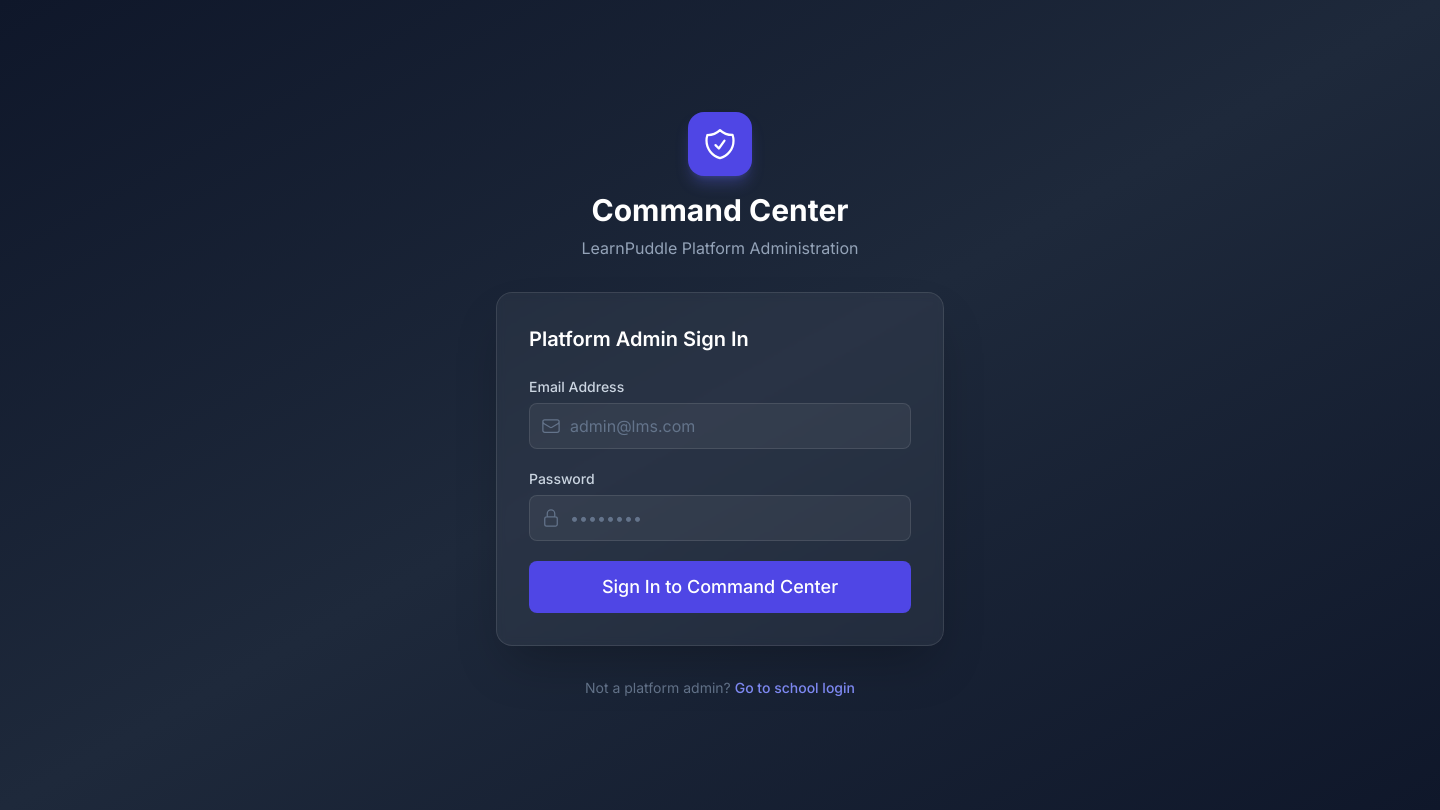
Test: SuperAdminLoginPage › non-SUPER_ADMIN role guard › shows "This portal is for platform administrators only." when role is not SUPER_ADMIN
Type "teacher@school.com" into the field labelled "Email Address".
click(720, 426); type("teacher@school.com")  # box 529,403 -> 911,449
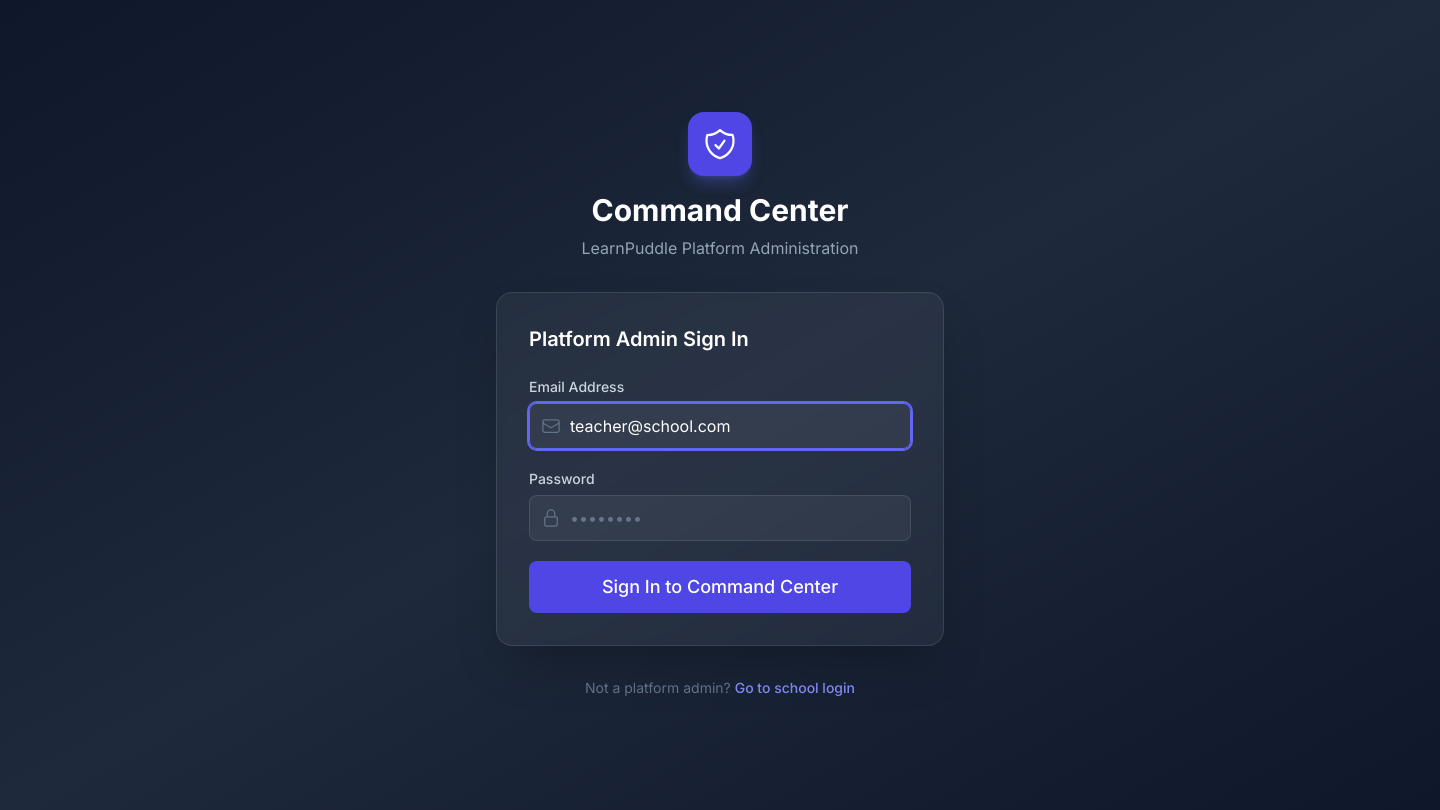
Type "pass1234" into the password field labelled "Password".
click(720, 518); type("pass1234")  # box 529,495 -> 911,541
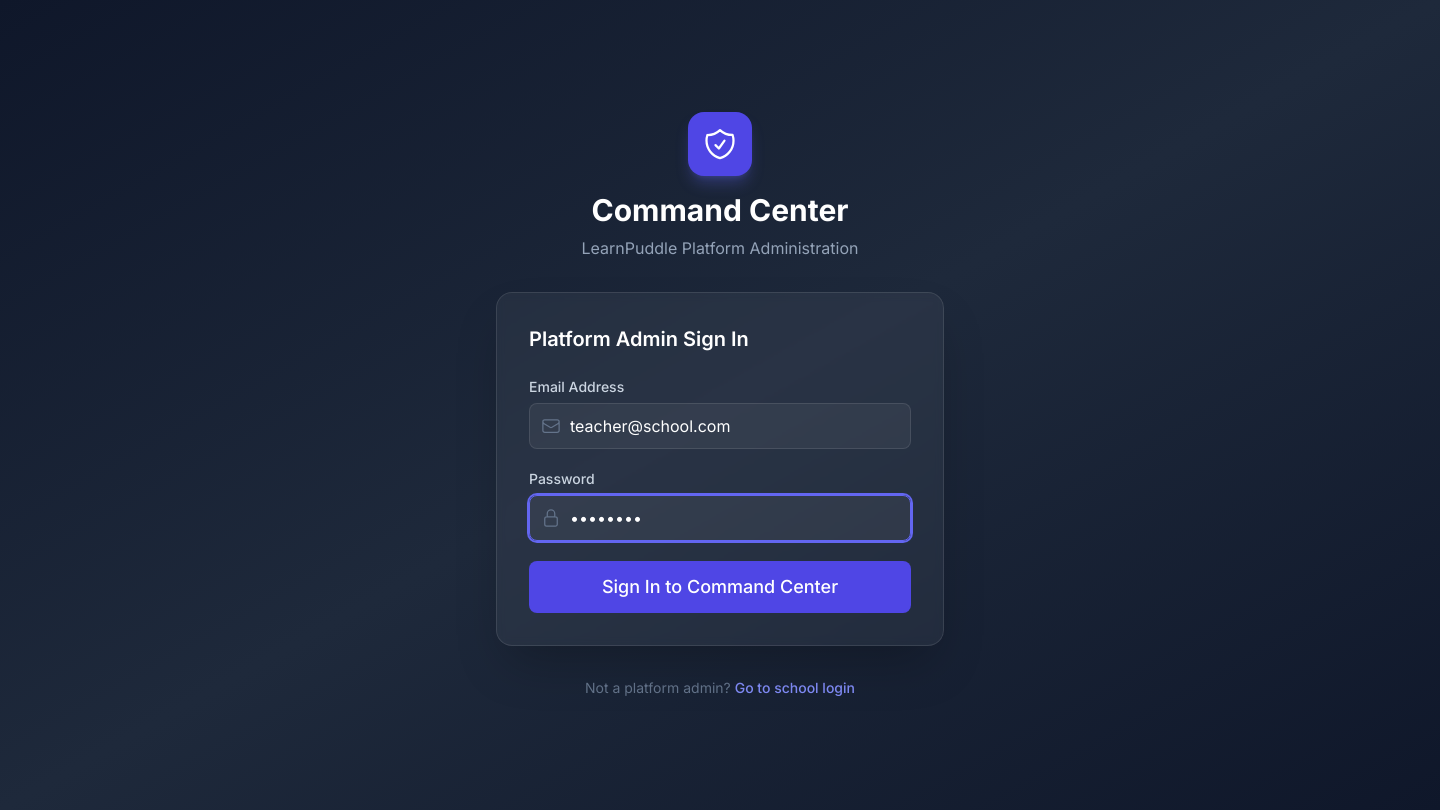
Click the button "Sign In to Command Center".
click(720, 587)  # box 529,561 -> 911,613
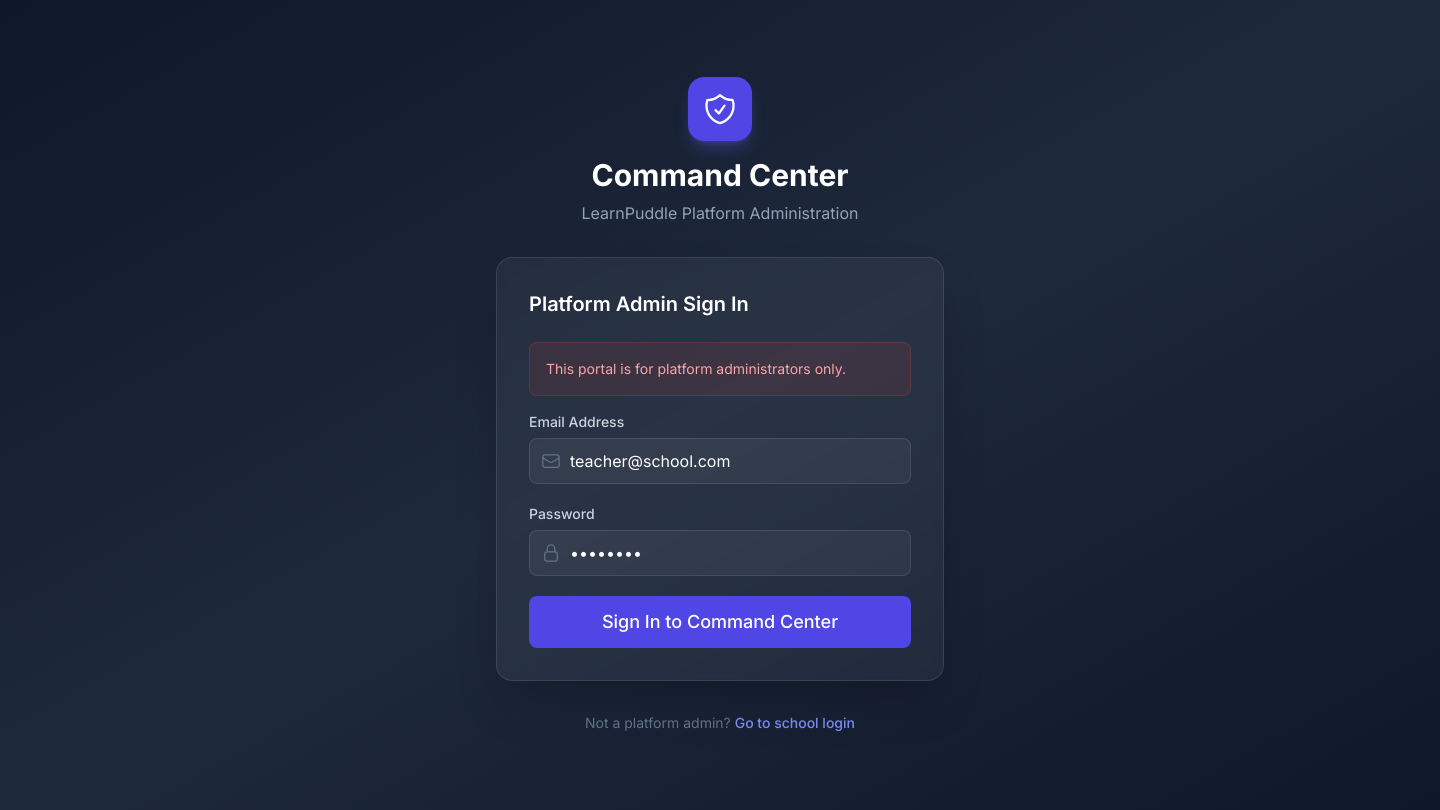
Expected: the text "This portal is for platform administrators only." is shown, 546,359 -> 894,379
